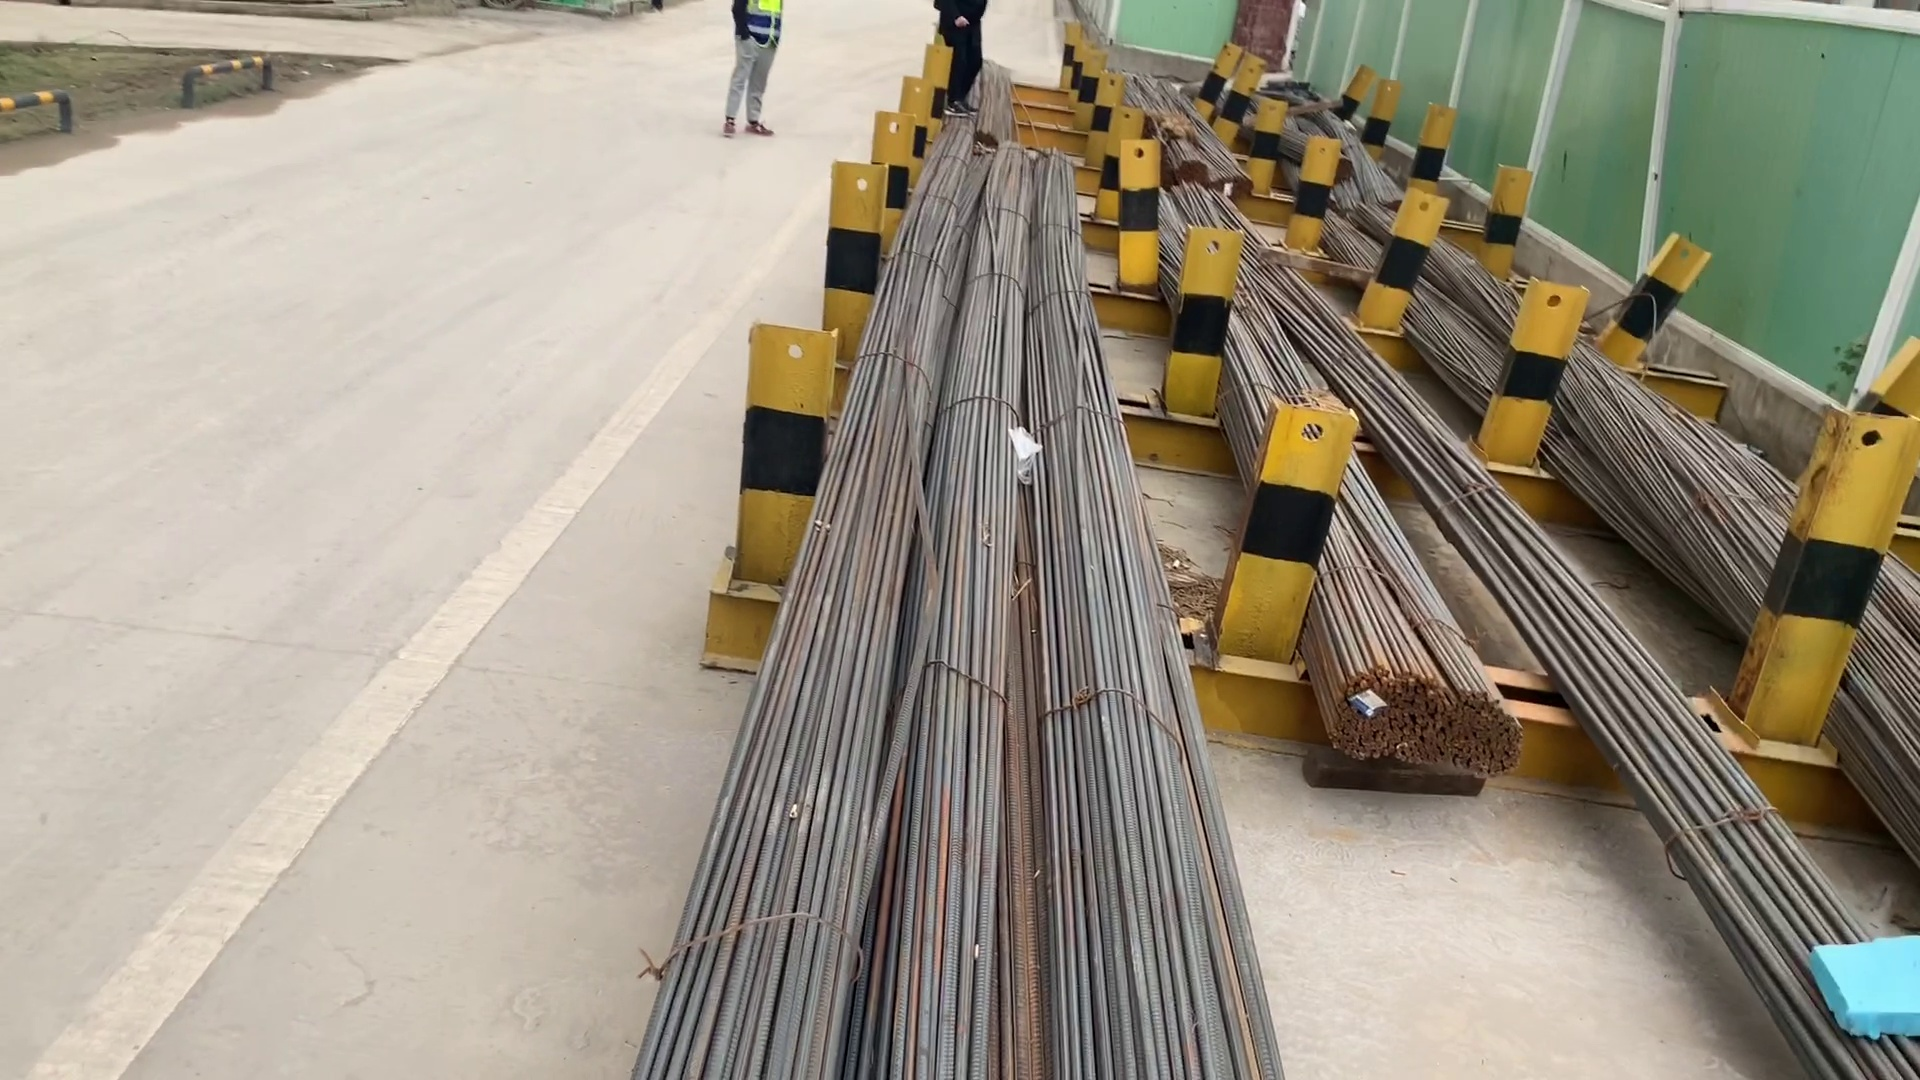rebar: (1327, 661, 1523, 783), (1164, 152, 1211, 189), (1218, 170, 1250, 198)
